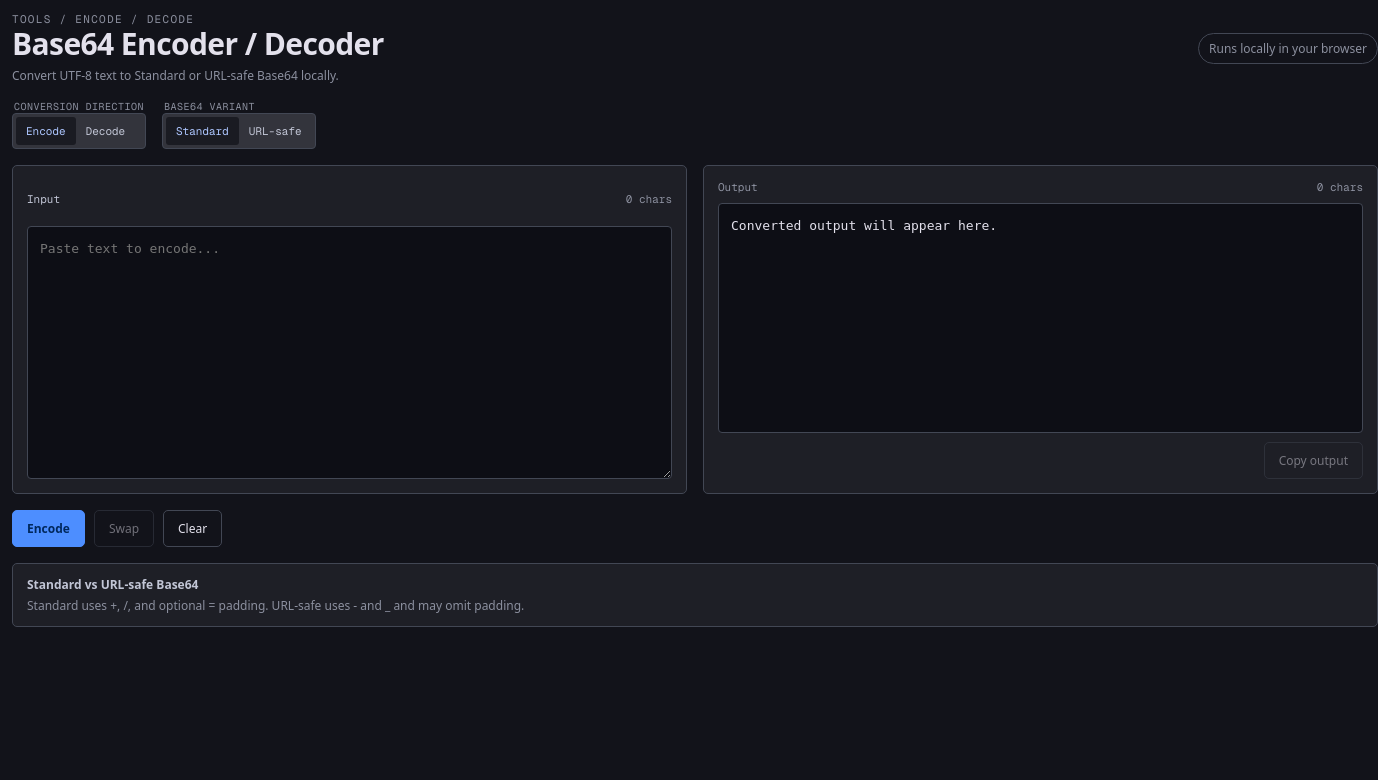
Test: Base64 Encoder / Decoder - Level 1 core/common › encodes input through the primary action and exposes a copyable result
Type "Hello" into the text box labelled "Input". click: (350, 352)
box: [27,226,672,479]
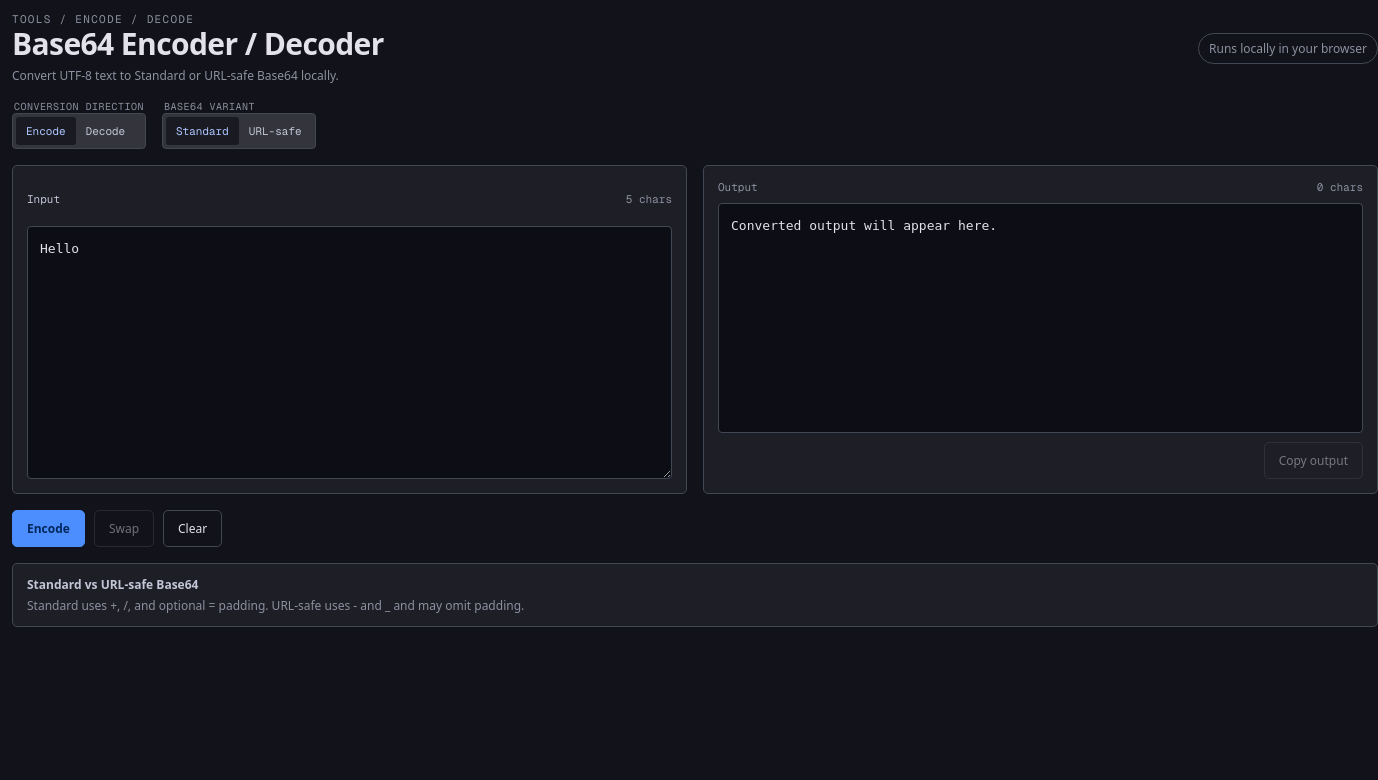
Click the button with aria-label "Encode Base64". click: (48, 528)
box: [12,510,85,547]
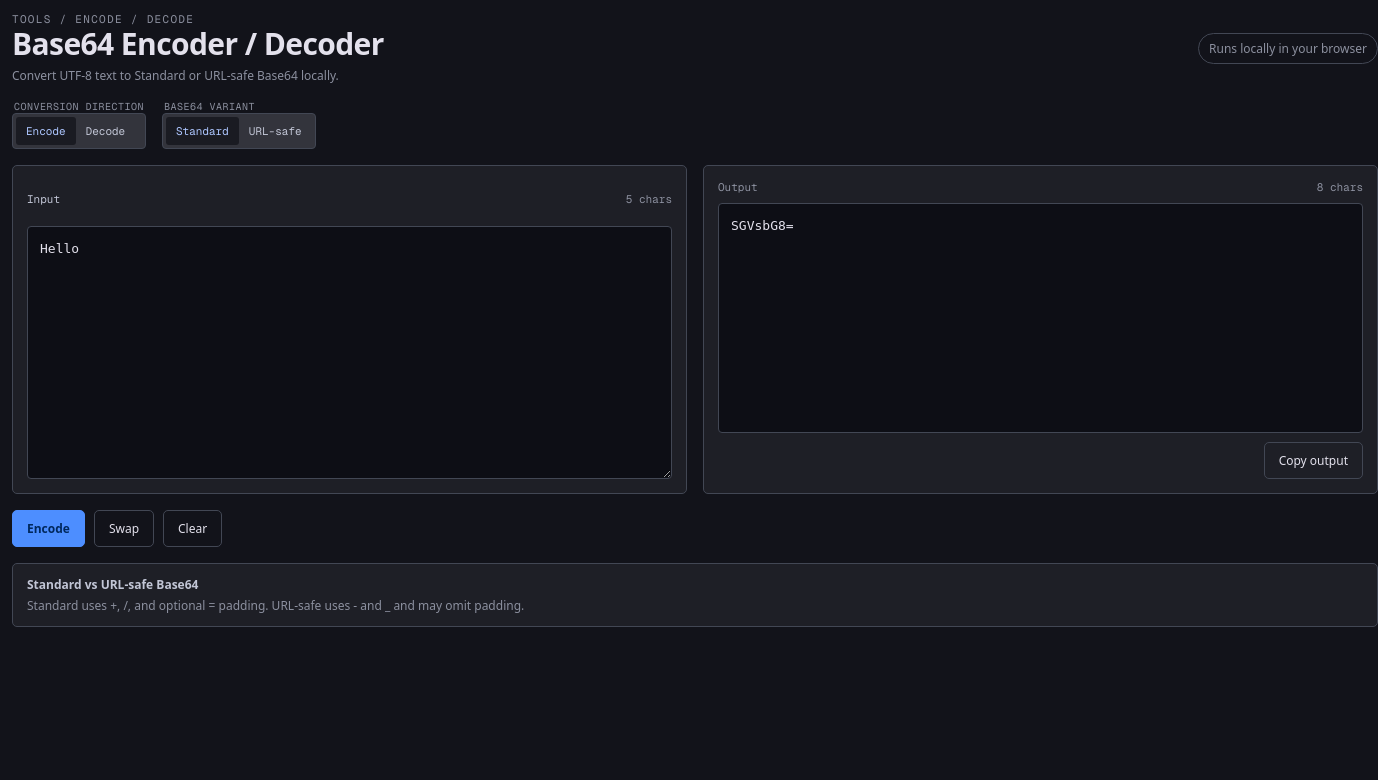
Check: the element named "Base64 output editor" shows "SGVsbG8=", box [731,218,794,233]
Check: the button "Copy output" is enabled, box [1264,442,1363,479]
